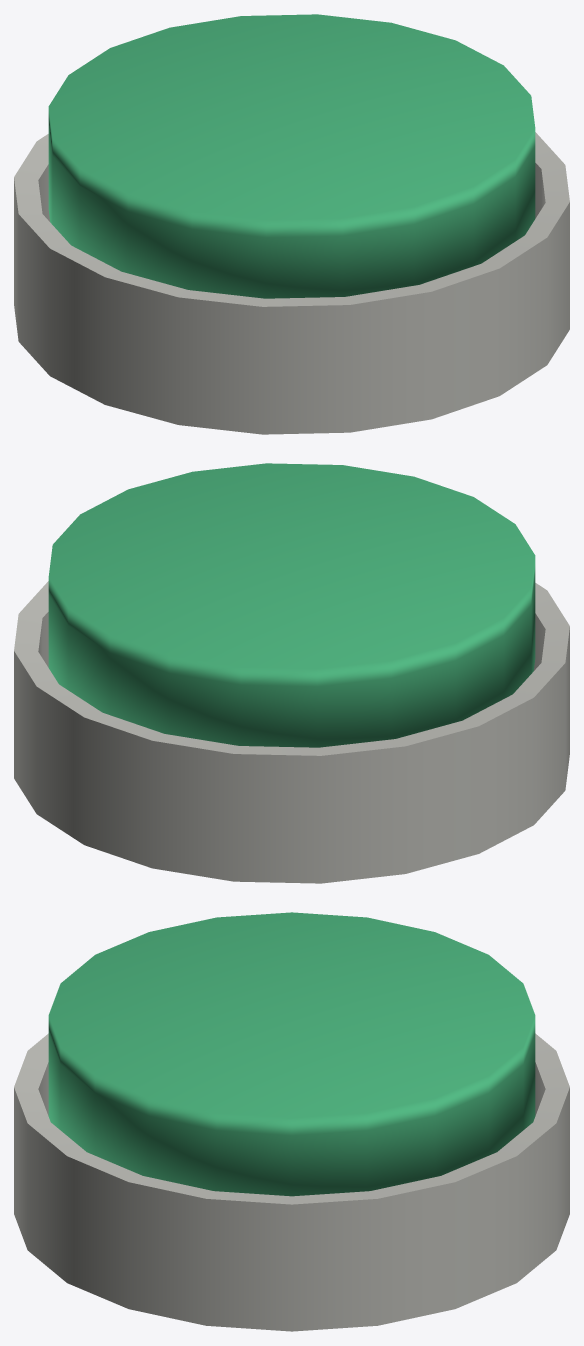
File: fourthButton.fbx
3 renders of one model, top to bottom at view 1: azimuth 30°, elevation 25°; view 2: azimuth 150°, elevation 25°; view 3: azimuth 270°, elevation 25°, orthographic.
Visible parts, largest first — view 1: pCylinder3, pCylinder4; view 2: pCylinder3, pCylinder4; view 3: pCylinder3, pCylinder4.
Part boxes in pixels (x1,y1,x2,y2): pCylinder3: [48, 14, 535, 298]; pCylinder4: [14, 132, 569, 434]; pCylinder3: [48, 463, 535, 747]; pCylinder4: [14, 581, 569, 883]; pCylinder3: [48, 912, 535, 1196]; pCylinder4: [14, 1033, 569, 1331].
Size of the model in its own units: 13.51 by 5.33 by 13.51.
